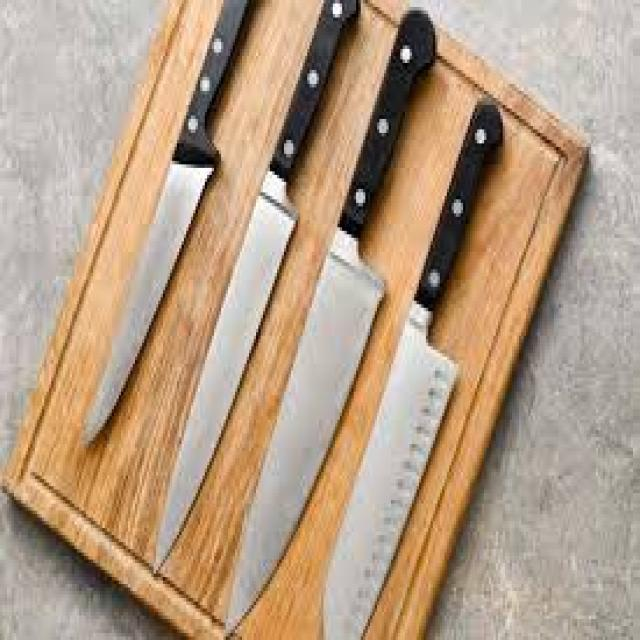knife: (225, 11, 436, 637), (153, 0, 362, 577), (322, 103, 503, 637), (81, 0, 250, 448)
